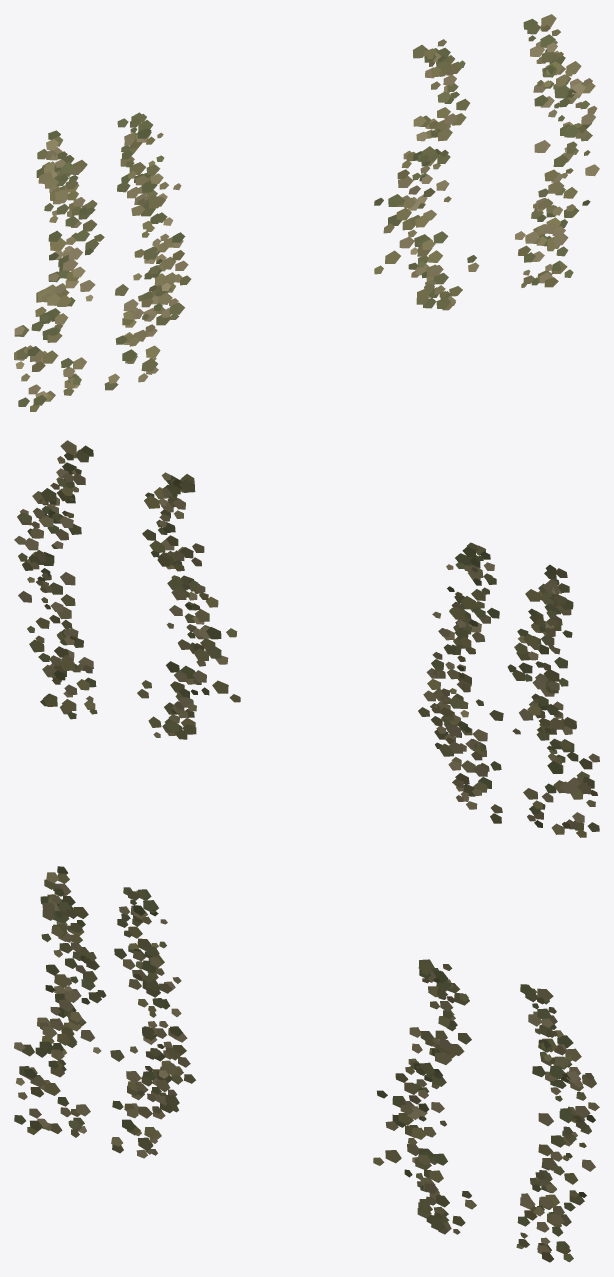
File: hearth_ivy.glb
The picture shows the model from 3 angles, top to bottom: view 1: azimuth 30°, elevation 25°; view 2: azimuth 150°, elevation 25°; view 3: azimuth 330°, elevation 25°; orthographic projection.
Visible parts, largest first — view 1: hearth_ivy; view 2: hearth_ivy; view 3: hearth_ivy.
Part boxes in pixels (box(x1,y1,x2,y2)): hearth_ivy: box(14, 14, 599, 411); hearth_ivy: box(14, 440, 599, 837); hearth_ivy: box(14, 866, 599, 1262).
Size of the model in its own units: 8.43 by 3.78 by 0.1915.
